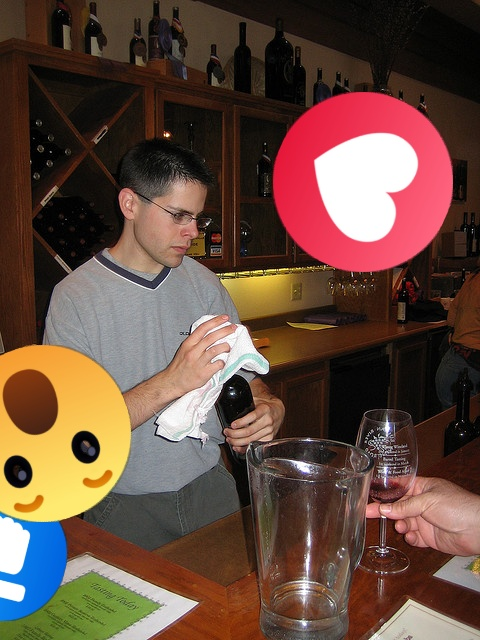like: (0, 487, 67, 621)
love: (273, 92, 453, 272)
wow: (0, 345, 131, 522)
